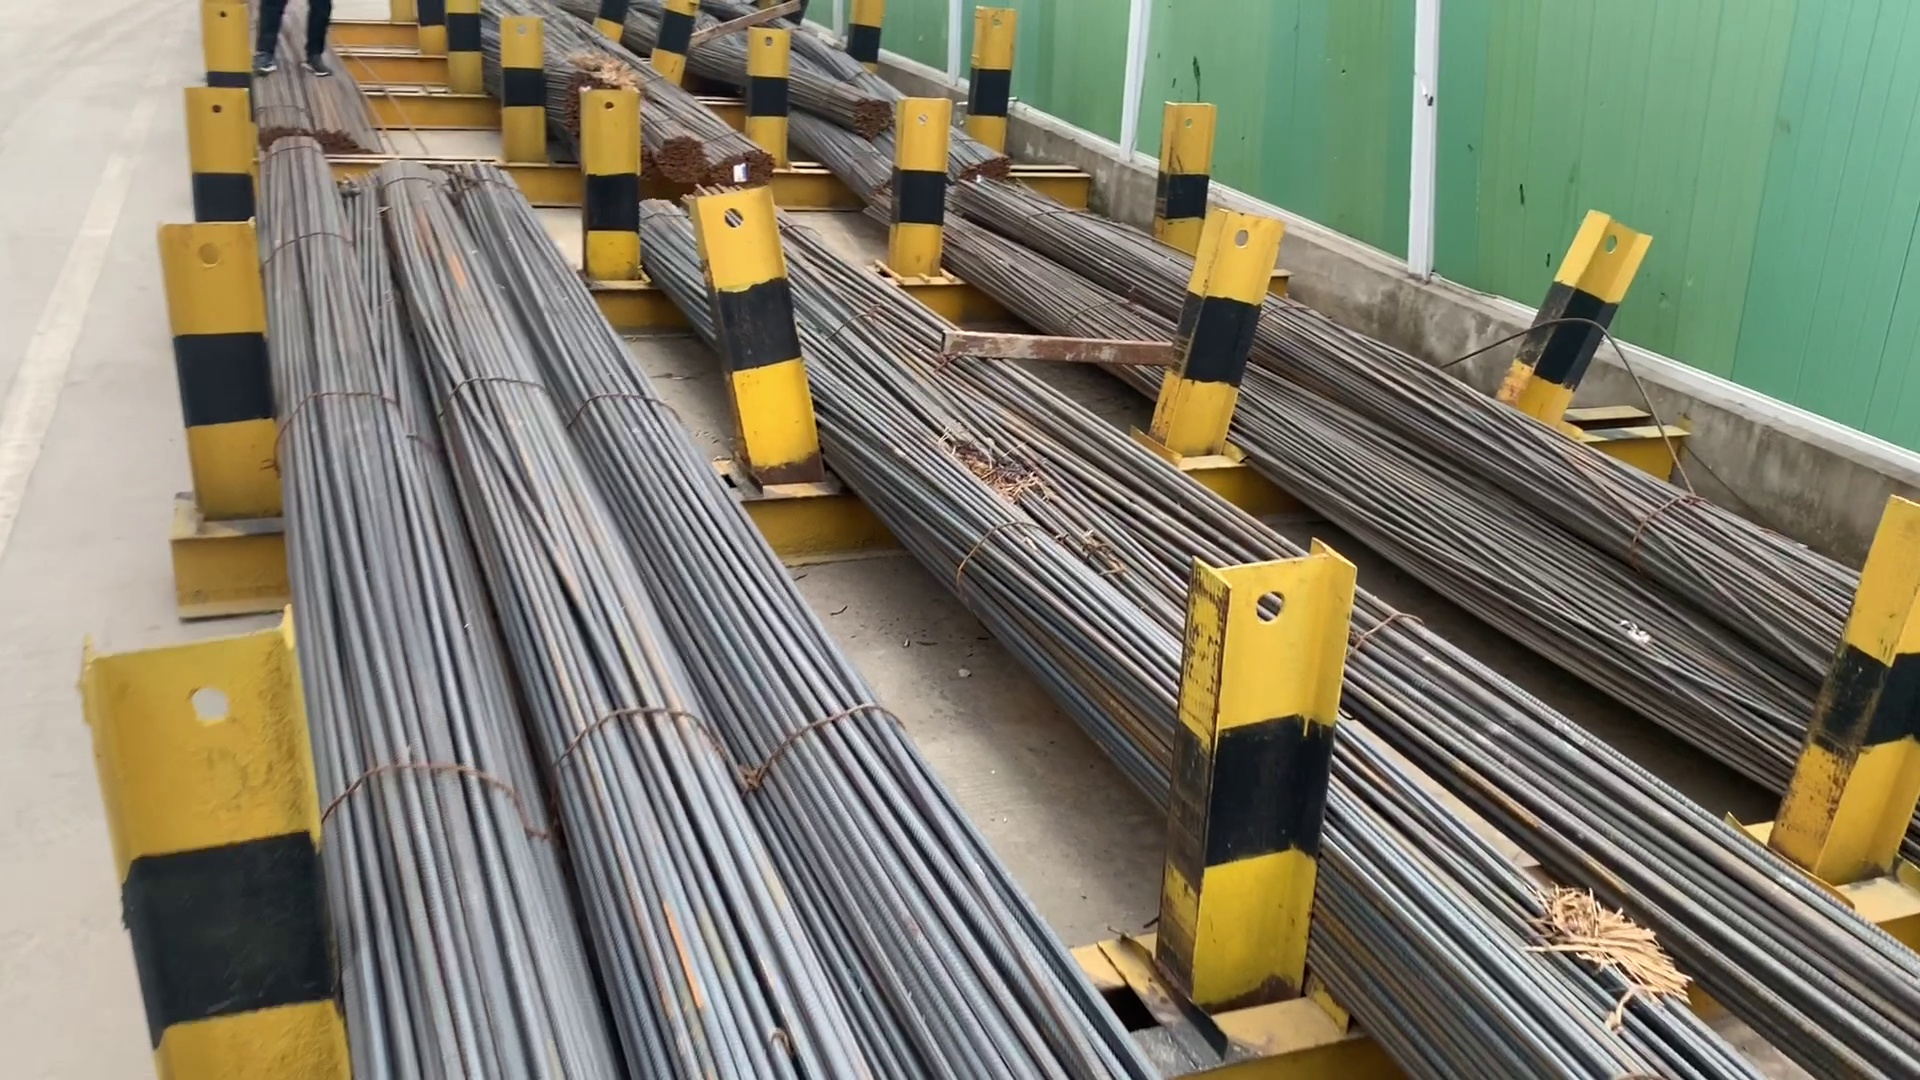rebar: (650, 127, 699, 183), (715, 148, 777, 187), (847, 92, 893, 131), (322, 117, 368, 156)
